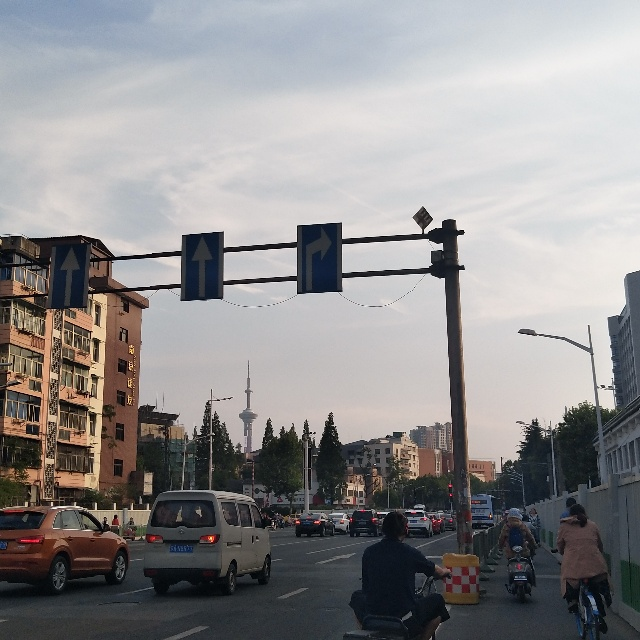right: (296, 221, 343, 295)
straight: (180, 231, 223, 300), (47, 244, 89, 309)
